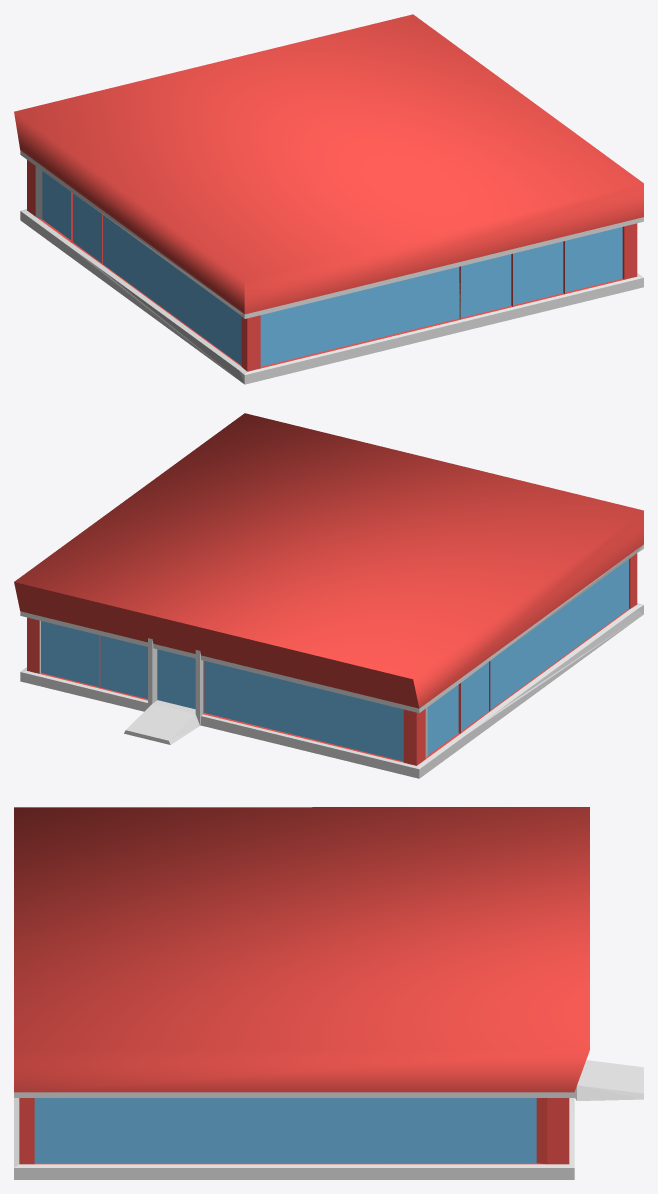
Rendered from Shop8x8x2Red.fbx.
3 views of the same model, one above another, from view 1: azimuth 30°, elevation 25°; view 2: azimuth 150°, elevation 25°; view 3: azimuth 270°, elevation 25° (orthographic). The views are drawn at different scales.
Visible parts, largest first — view 1: Shop.001; view 2: Shop.001; view 3: Shop.001.
Boxes of the visible parts, box(x1,y1,x2,y2) form: Shop.001: box(14, 14, 643, 384); Shop.001: box(14, 413, 643, 778); Shop.001: box(14, 807, 643, 1179).
Size of the model in its own units: 7.96 by 1.98 by 8.72.
1 material, 1 textured.
